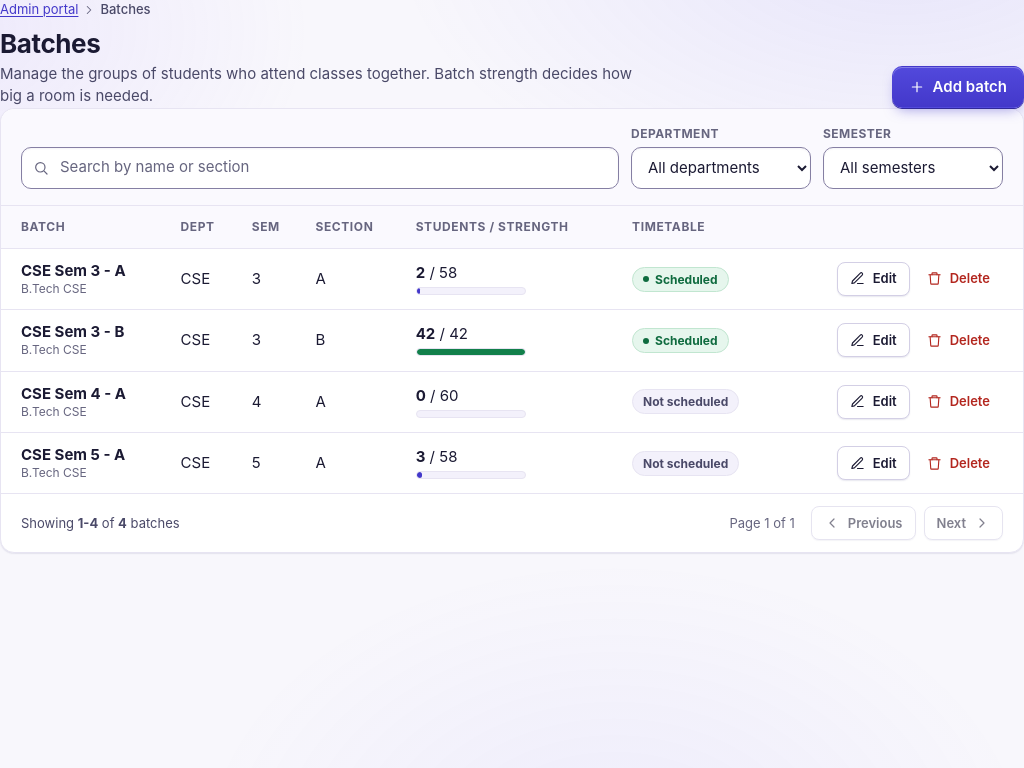
Test: Batches screen - edit and strength accuracy › saves a larger strength
The image size is (1024, 768).
Click the button with aria-label "Edit CSE Sem 4 - A".
click(873, 402)  # box [837,385,910,419]
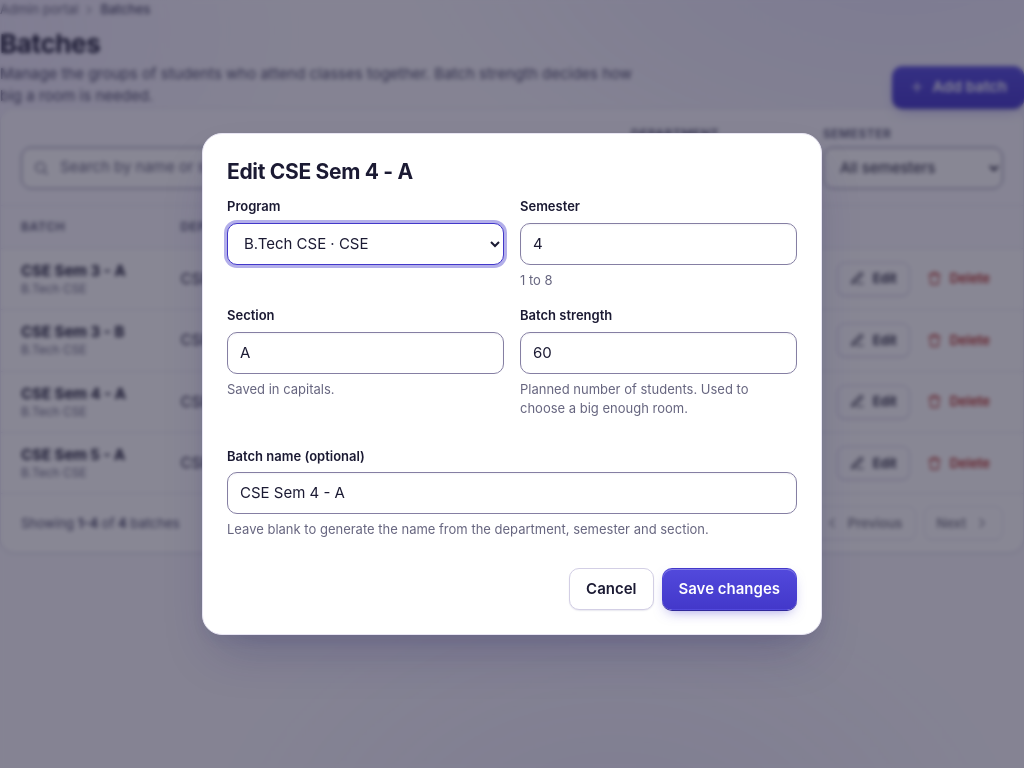
Replace the text in the number field labelled "Batch strength" with "70" at (658, 353), box [520,332,797,374]
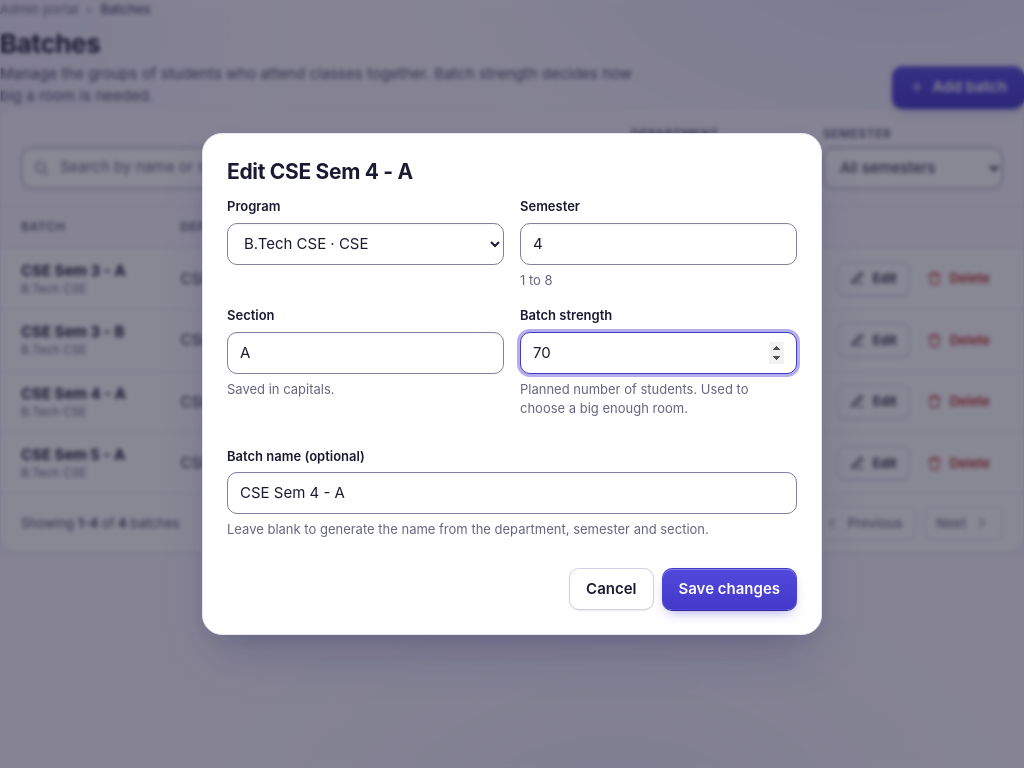
Click the button "Save changes".
click(729, 589)  # box [662,568,797,610]
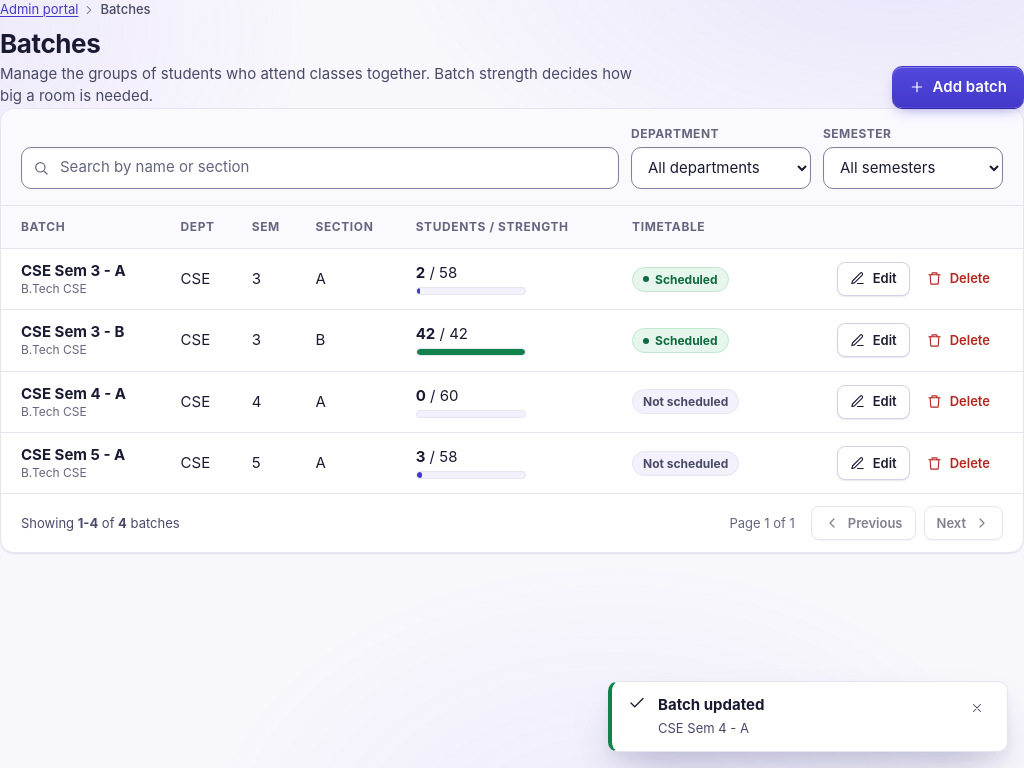
Now the text "Batch updated" is shown, box [658,694,764,716]
